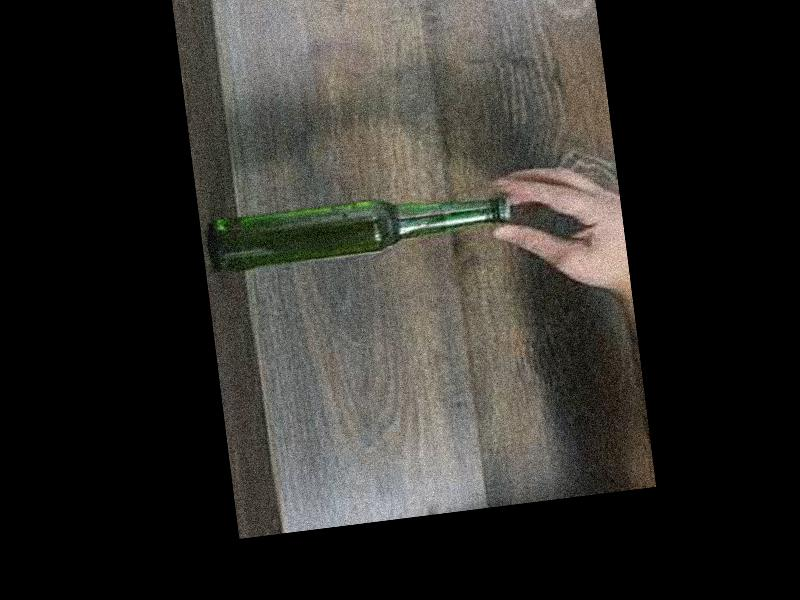Beer: (207, 183, 515, 275)
